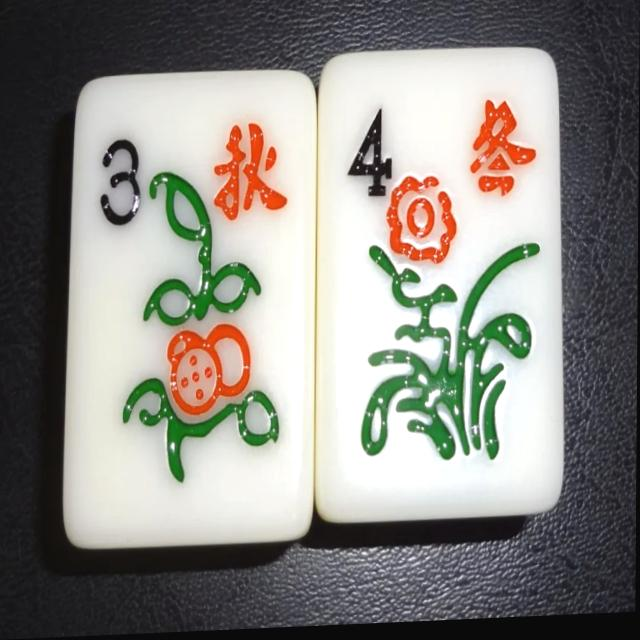3S: (73, 68, 318, 545)
4S: (317, 45, 566, 524)
